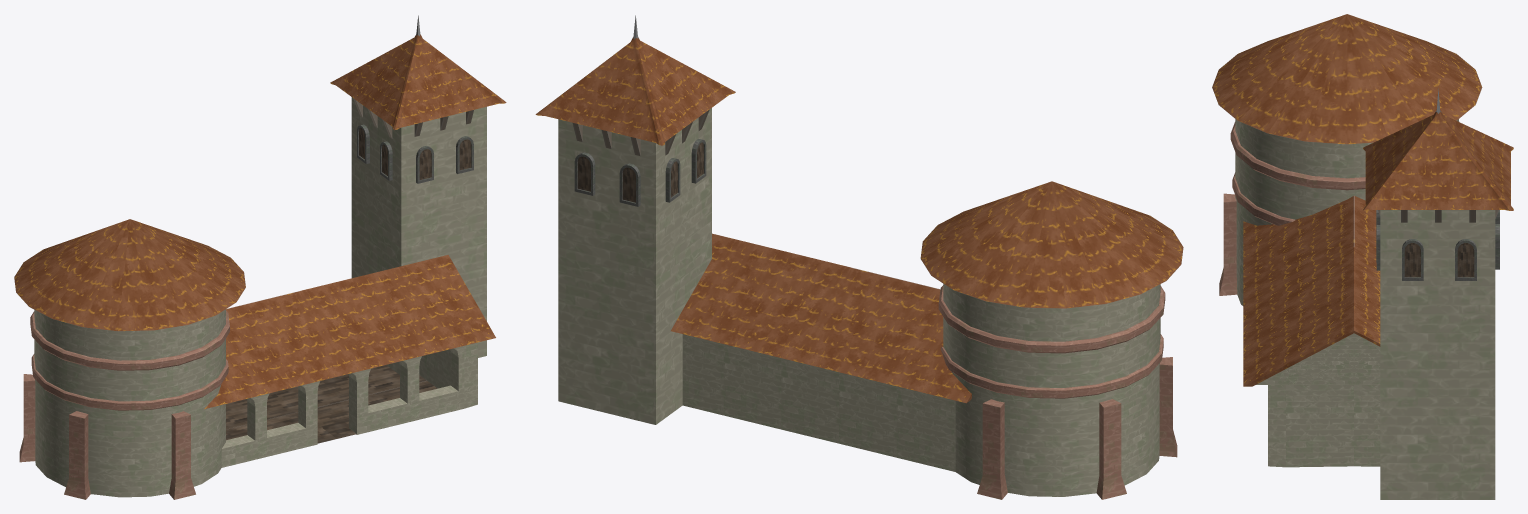
Rendered from SM_Building_001.fbx.
3 views of the same model, side by side, from view 1: azimuth 30°, elevation 25°; view 2: azimuth 150°, elevation 25°; view 3: azimuth 270°, elevation 25° (orthographic). The views are drawn at different scales.
Parts seen in each view (by area): view 1: polySurface300; view 2: polySurface300; view 3: polySurface300.
Part boxes in pixels (x1,y1,x2,y2): polySurface300: (14, 15, 506, 499); polySurface300: (535, 15, 1183, 499); polySurface300: (1212, 14, 1513, 499).
Bounding box in the file's own units: 1160 × 764 × 539.
